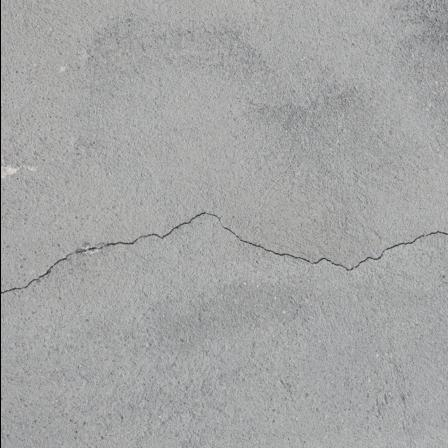crack: (0, 193, 448, 297)
